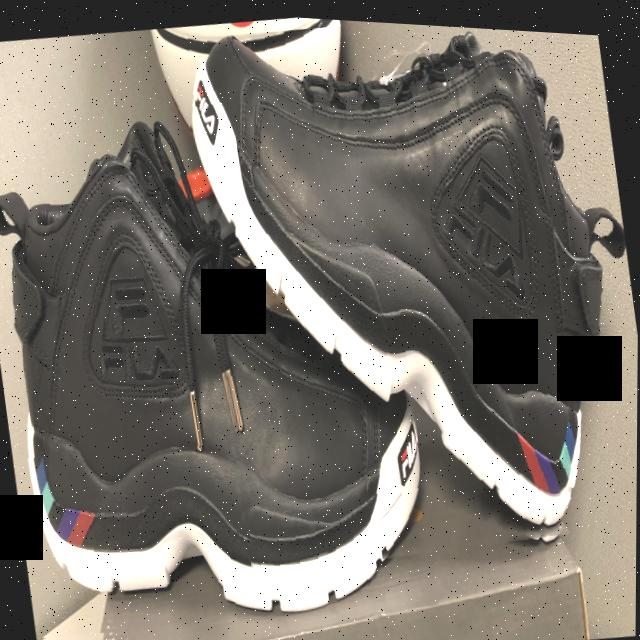shoe: (175, 8, 640, 592), (0, 66, 447, 640)
